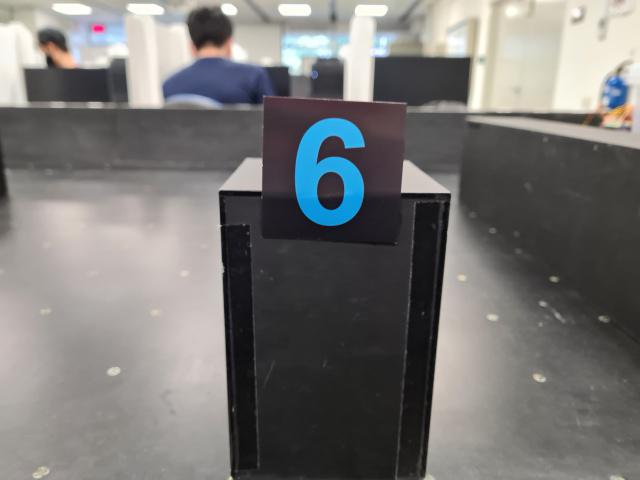six: (261, 94, 406, 246)
